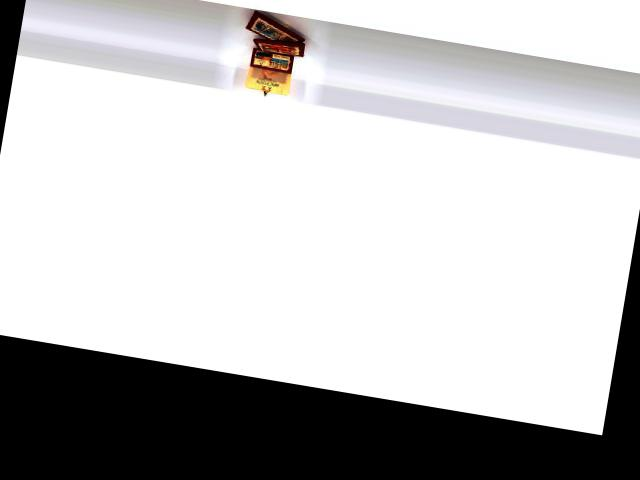chocolate: (231, 2, 312, 49)
